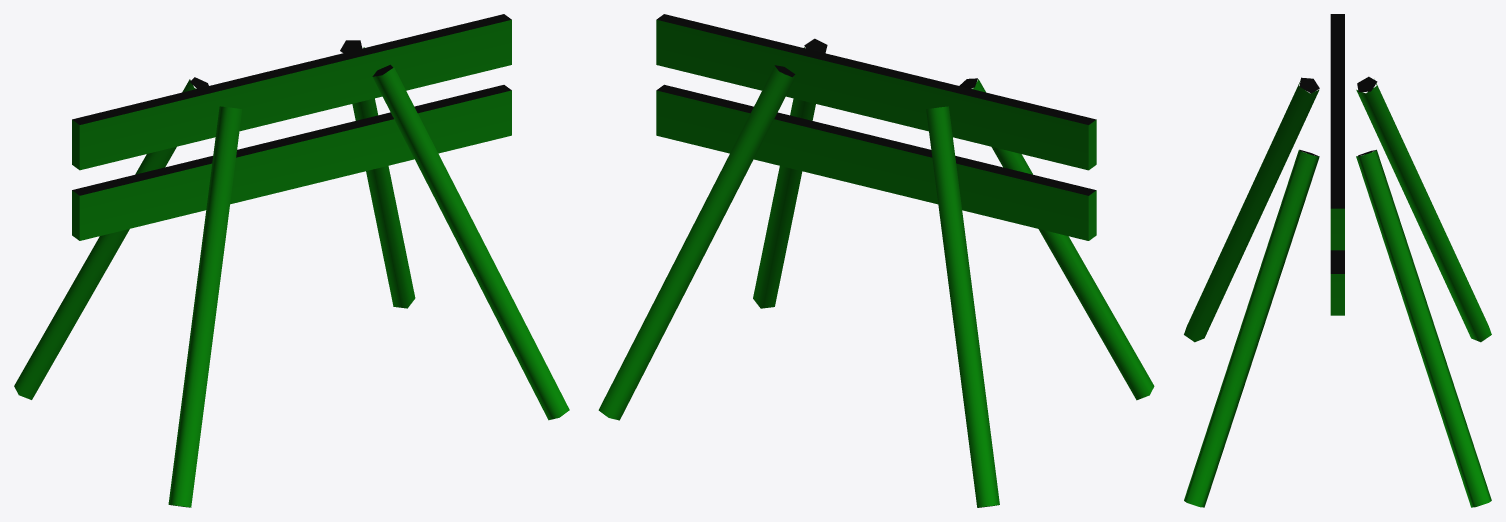
The model's file is sawhorsebarricade.glb.
3 renders of one model, left to right at view 1: azimuth 30°, elevation 25°; view 2: azimuth 150°, elevation 25°; view 3: azimuth 270°, elevation 25°, orthographic. The views are drawn at different scales.
Visible parts, largest first — view 1: lod0; view 2: lod0; view 3: lod0.
Part boxes in pixels (left/top/right/bottom): lod0: left=14, top=14, right=569, bottom=507; lod0: left=598, top=14, right=1154, bottom=507; lod0: left=1184, top=14, right=1491, bottom=507.
Size of what is drawn, in the model's own units: 1.6 by 1.2 by 1.07.
